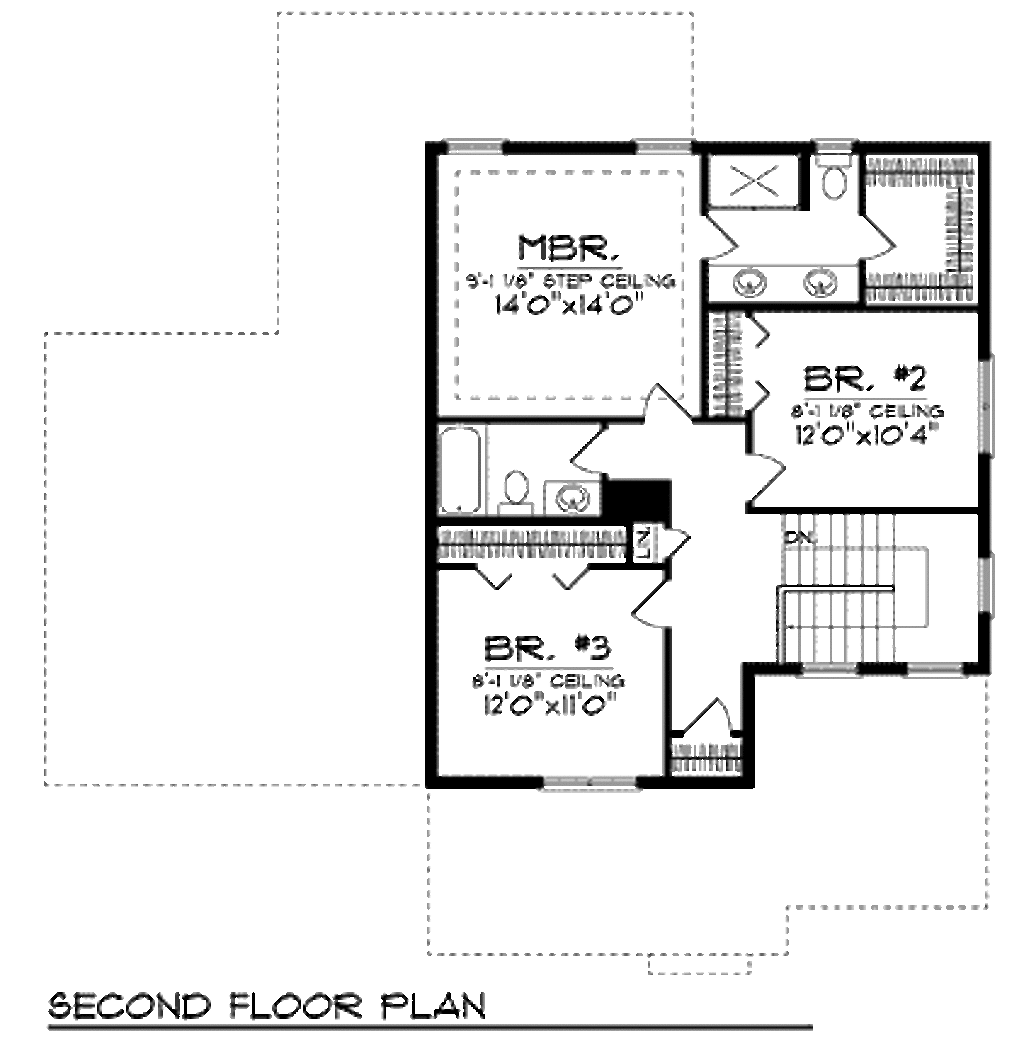door: (688, 210, 743, 265), (560, 419, 615, 473), (676, 689, 734, 740), (631, 573, 676, 627), (639, 379, 693, 423), (747, 453, 793, 498), (851, 218, 897, 263)
large_sink: (807, 131, 859, 207), (499, 469, 536, 519)
small_sink: (709, 261, 851, 300), (543, 477, 607, 513)
stairs: (751, 508, 978, 663)
tub: (438, 419, 486, 526)
window: (433, 131, 512, 160), (623, 134, 696, 163), (973, 553, 1001, 618), (530, 774, 634, 790), (980, 355, 994, 465)
